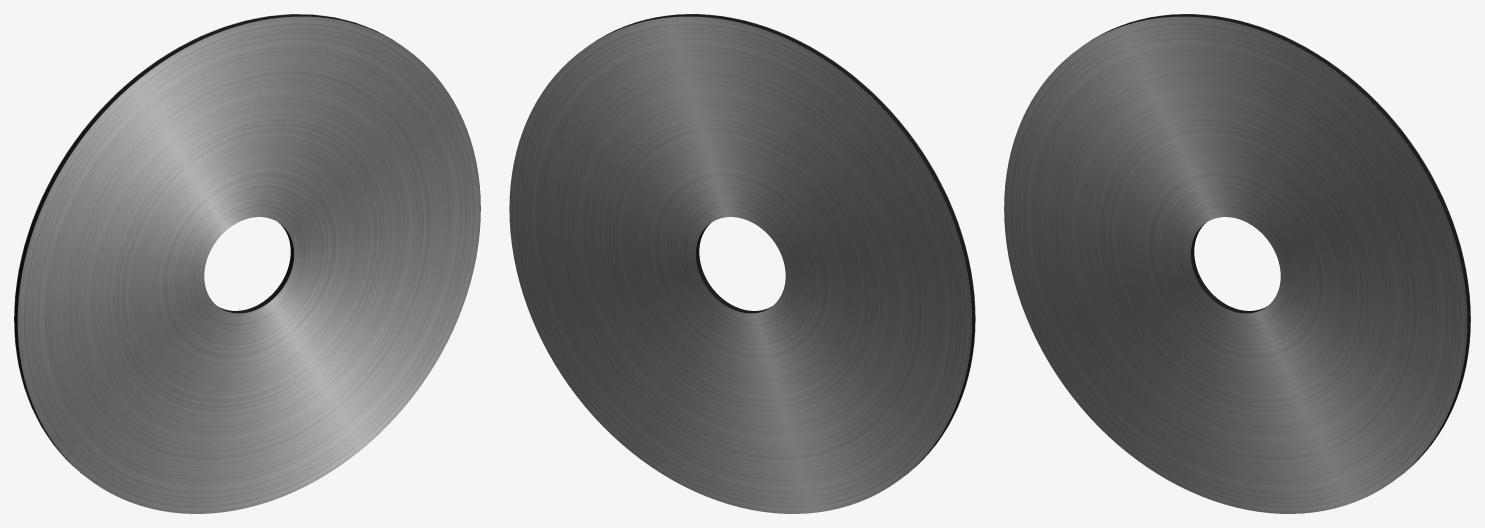
Rendered from saw_disk4.glb.
The picture shows the model from 3 angles, left to right: view 1: azimuth 30°, elevation 25°; view 2: azimuth 150°, elevation 25°; view 3: azimuth 330°, elevation 25°; orthographic projection.
Parts seen in each view (by area): view 1: Circular saw blade_Material.001_0.003; view 2: Circular saw blade_Material.001_0.003; view 3: Circular saw blade_Material.001_0.003.
Boxes of the visible parts, x1=… form: Circular saw blade_Material.001_0.003: x1=14, y1=14, x2=480, y2=513; Circular saw blade_Material.001_0.003: x1=509, y1=14, x2=975, y2=513; Circular saw blade_Material.001_0.003: x1=1004, y1=14, x2=1470, y2=513.
Size of the model in its own units: 1.92 by 1.92 by 0.029.
3 materials, 1 textured.
